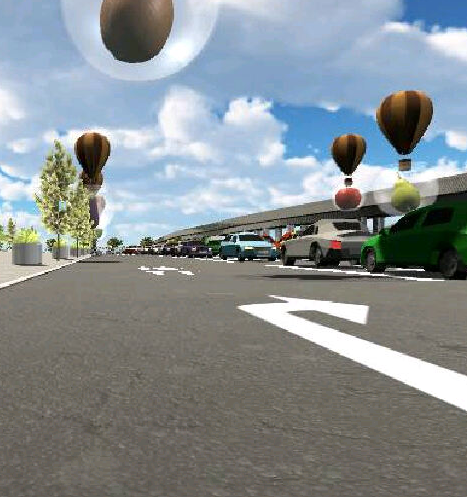ground_right: (236, 294, 371, 329)
